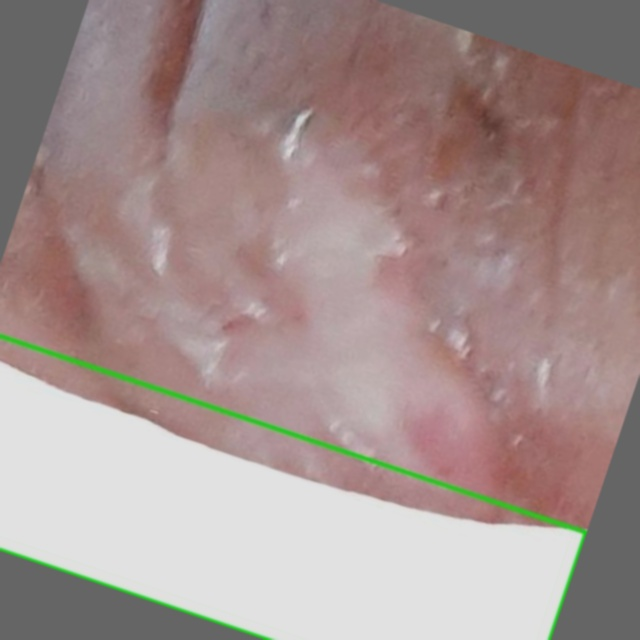Contact Dermatitis: (0, 336, 585, 639)
